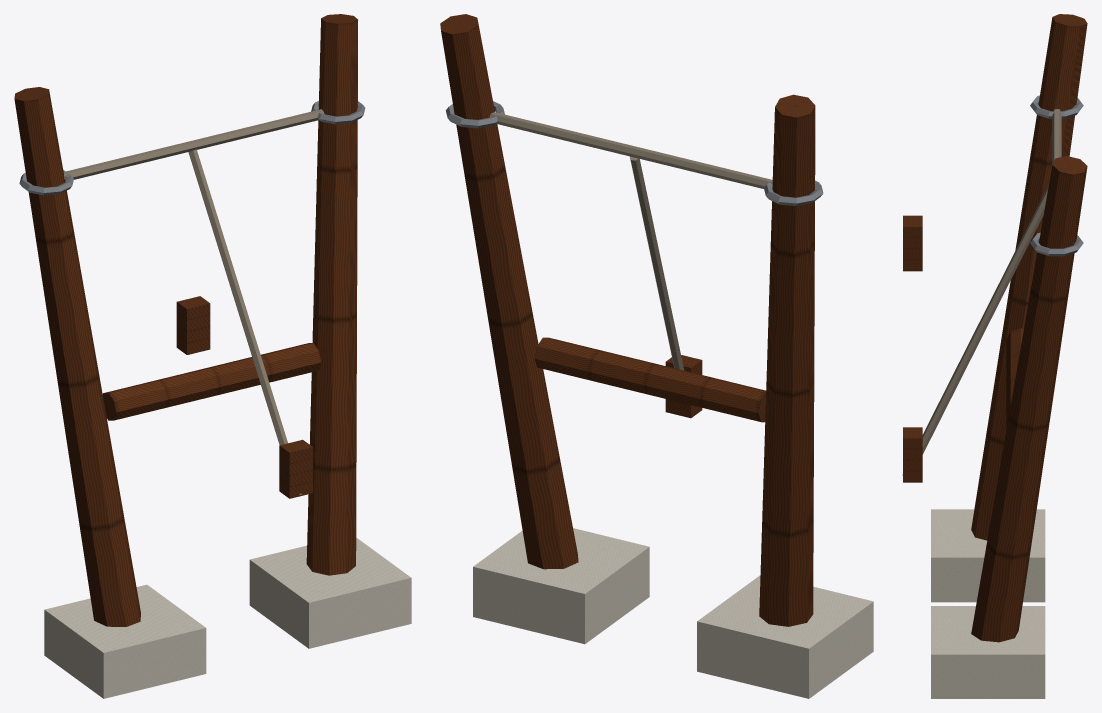
File: pirate-port-and-tall-ships-careening-posts-5d8ac437__30136.glb
3 renders of one model, left to right at view 1: azimuth 30°, elevation 25°; view 2: azimuth 150°, elevation 25°; view 3: azimuth 270°, elevation 25°, orthographic. The views are drawn at different scales.
Parts seen in each view (by area): view 1: careening-posts; view 2: careening-posts; view 3: careening-posts.
Boxes of the visible parts, box(x1,y1,x2,y2) form: careening-posts: box(14, 14, 411, 698); careening-posts: box(440, 14, 873, 698); careening-posts: box(902, 14, 1087, 698).
Bounding box in the file's own units: 2.32 × 3.64 × 1.13.
Materials: 4 (2 with a texture image).
